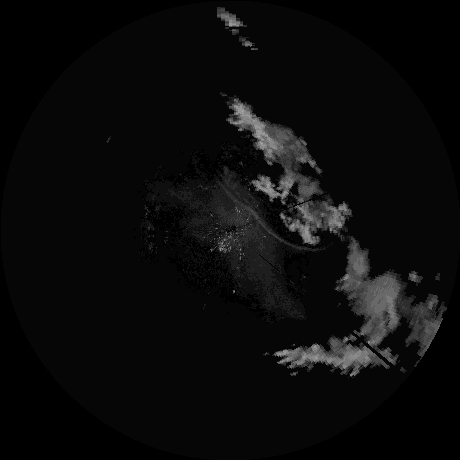frontgust: (224, 186, 316, 251)
